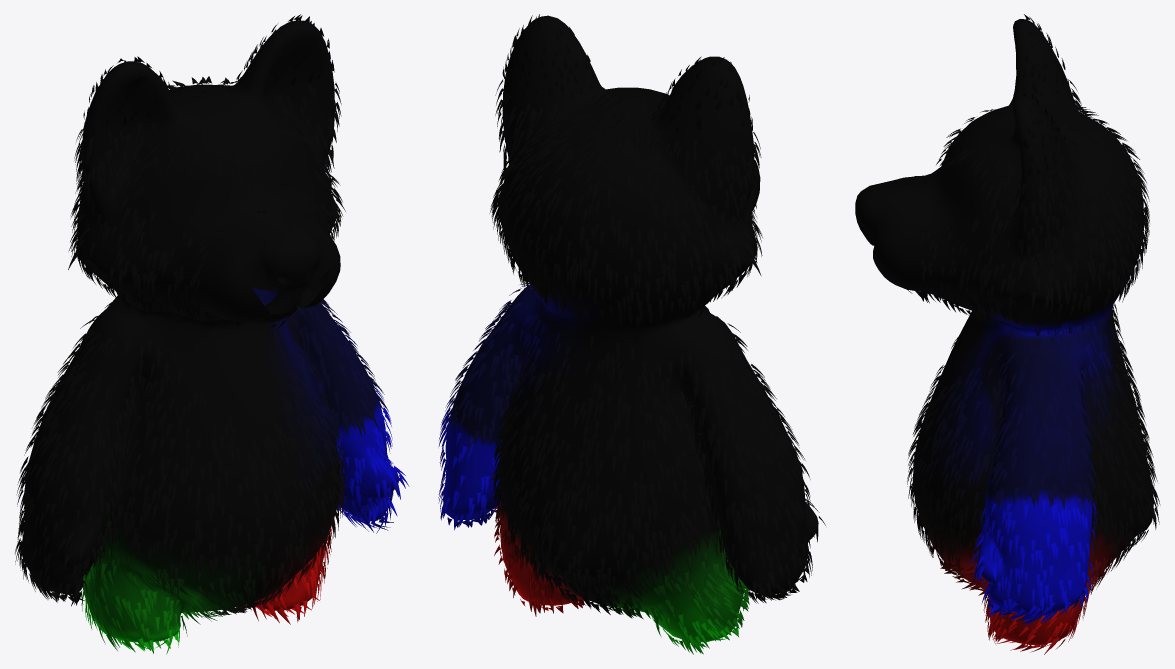
File: nemo_table_groom_v3.glb
The picture shows the model from 3 angles, left to right: view 1: azimuth 30°, elevation 25°; view 2: azimuth 150°, elevation 25°; view 3: azimuth 270°, elevation 25°; orthographic projection. The views are drawn at different scales.
Parts seen in each view (by area): view 1: BoundedShellGroom, LayeredCurvedGroom; view 2: BoundedShellGroom, LayeredCurvedGroom; view 3: BoundedShellGroom, LayeredCurvedGroom.
Boxes of the visible parts, x1=… form: BoundedShellGroom: x1=21, y1=20, x2=398, y2=642; LayeredCurvedGroom: x1=15, y1=14, x2=409, y2=654; BoundedShellGroom: x1=443, y1=15, x2=818, y2=641; LayeredCurvedGroom: x1=438, y1=14, x2=825, y2=654; BoundedShellGroom: x1=855, y1=19, x2=1153, y2=644; LayeredCurvedGroom: x1=907, y1=14, x2=1160, y2=654.
Size of the model in its own units: 1.73 by 2.75 by 1.36.
Materials: 2 (2 with a texture image).
